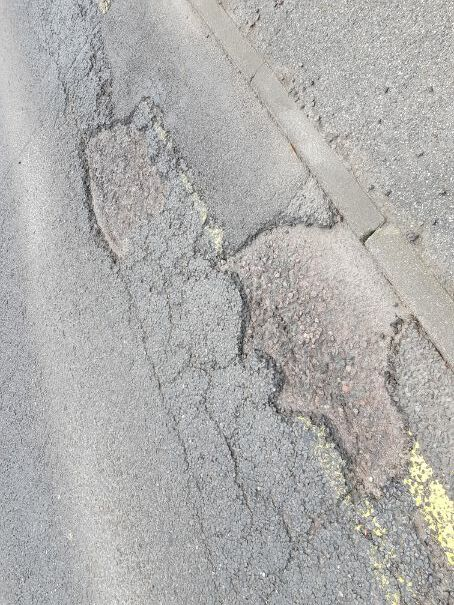pothole: (205, 204, 419, 508), (72, 93, 179, 269)
